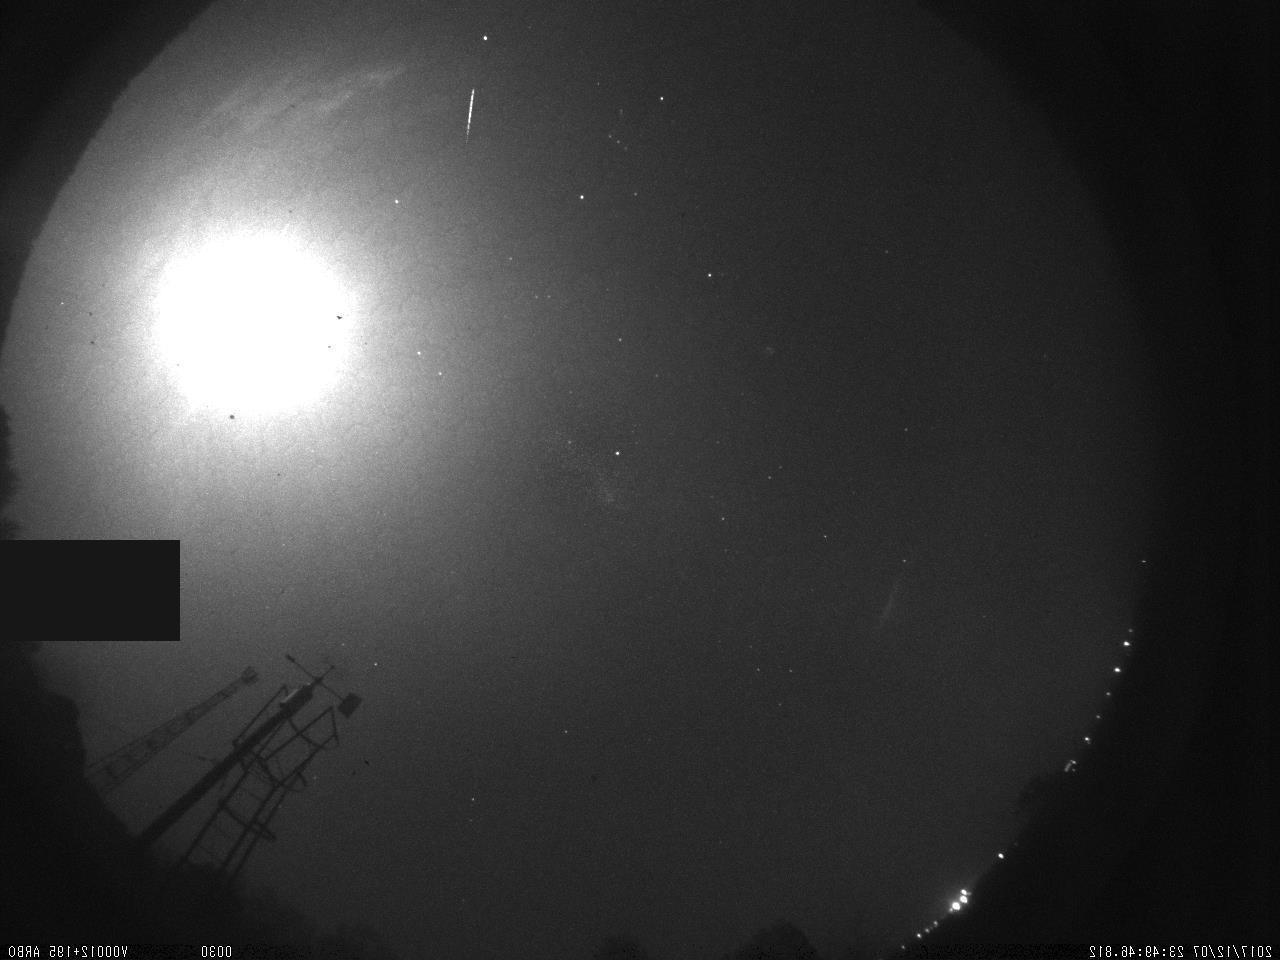meteor: (463, 87, 477, 147)
